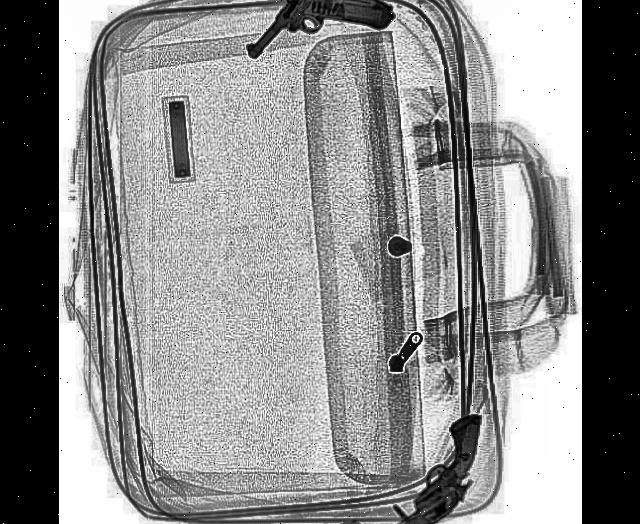Gun: (321, 410, 501, 524), (245, 0, 376, 118)
